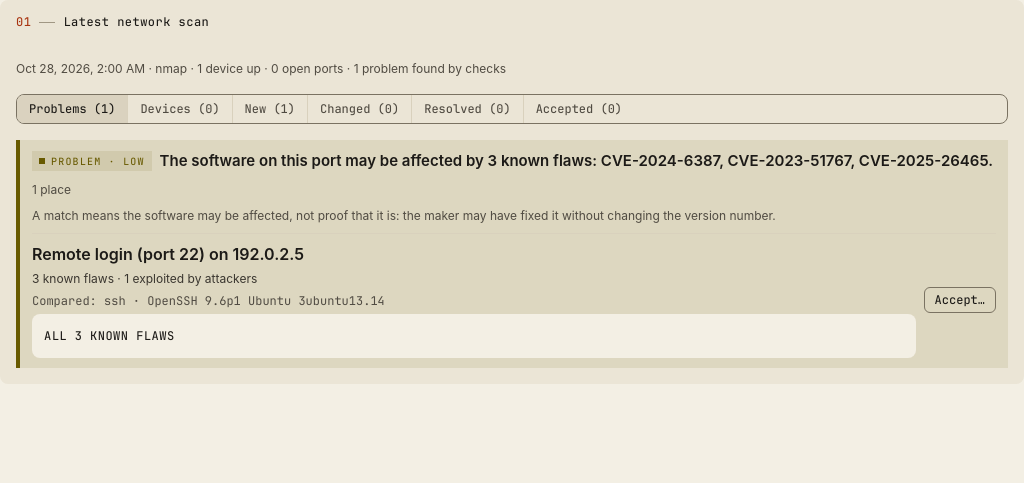
FindingsReport known vulnerabilities › Advanced: lists every flaw, exploited first and then the most serious, each linking to its NVD page
The width and height of the screenshot is (1024, 483).
Click the button "All 3 known flaws" at (109, 336), box x1=32 y1=314 x2=904 y2=358
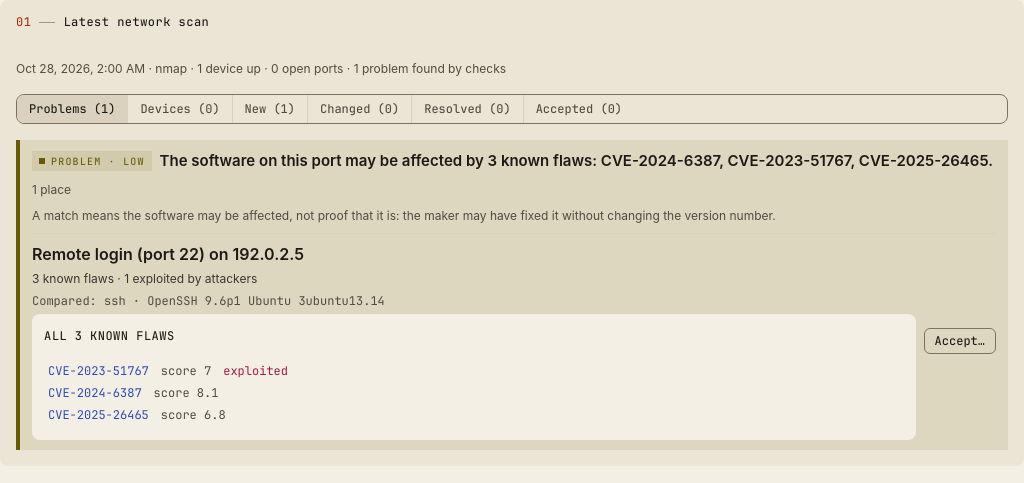
Now the list item with test id "vuln-flaw" shows "exploited", box x1=223 y1=362 x2=288 y2=378
Now the list item with test id "vuln-flaw" shows "8.1", box x1=154 y1=384 x2=218 y2=400
